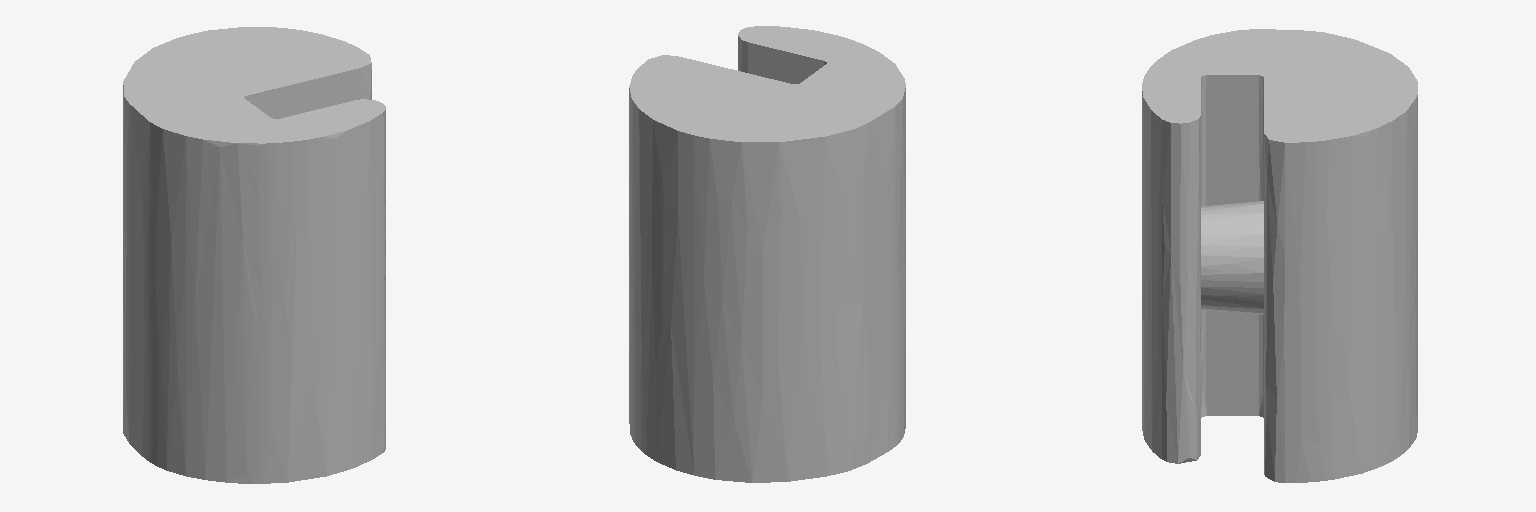
File: tilting_hokuyo.obj
3 views of the same model, side by side, from view 1: azimuth 30°, elevation 25°; view 2: azimuth 150°, elevation 25°; view 3: azimuth 270°, elevation 25° (orthographic).
Parts seen in each view (by area): view 1: hokuyo_M_hokuyo_MShape; view 2: hokuyo_M_hokuyo_MShape; view 3: hokuyo_M_hokuyo_MShape.
Part boxes in pixels (x1,y1,x2,y2): hokuyo_M_hokuyo_MShape: (123,27,385,483); hokuyo_M_hokuyo_MShape: (629,26,905,482); hokuyo_M_hokuyo_MShape: (1142,29,1417,482).
Bounding box in the file's own units: 0.117 × 0.163 × 0.1202.